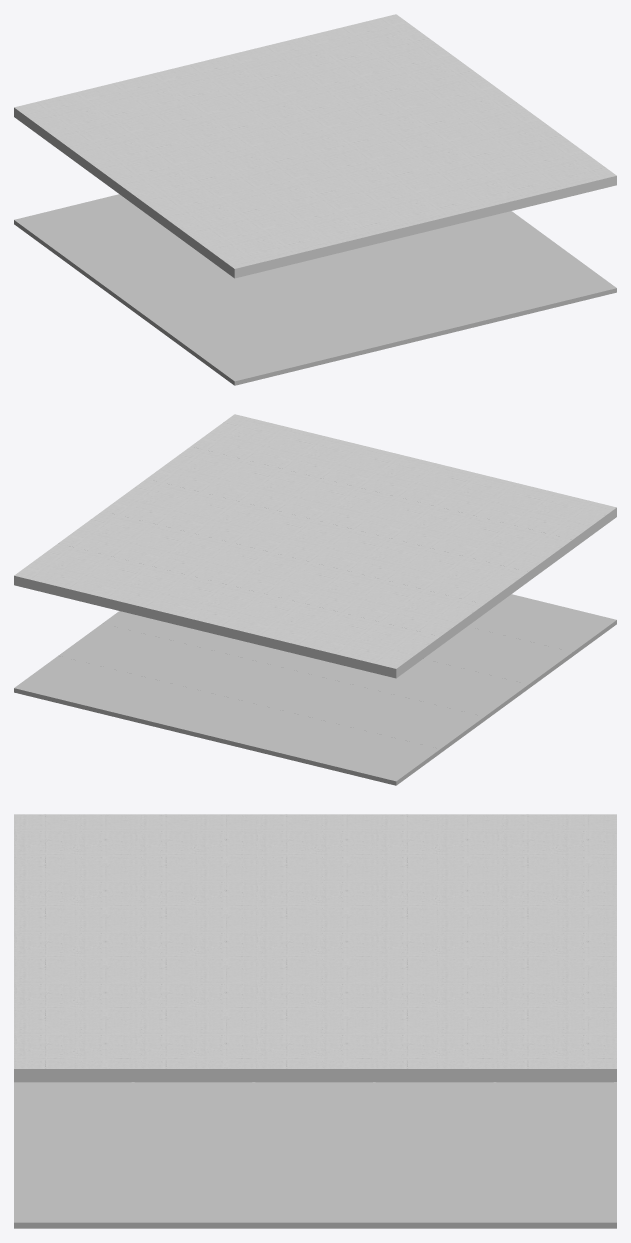
Rendered from WoodNConcreteFloorBlock 1.fbx.
3 views of the same model, one above another, from view 1: azimuth 30°, elevation 25°; view 2: azimuth 150°, elevation 25°; view 3: azimuth 270°, elevation 25° (orthographic). The views are drawn at different scales.
Parts seen in each view (by area): view 1: ceilingConcrete01_020, ceilingConcrete01_021, ceilingConcrete01_024, ceilingConcrete01_022, ceilingConcrete01_023, Floor01_Wood01_020, ceilingConcrete01_010, ceilingConcrete01_015, ceilingConcrete01_005, ceilingConcrete01, Floor01_Wood01_023, Floor01_Wood01_022 (+32 smaller); view 2: ceilingConcrete01, ceilingConcrete01_001, ceilingConcrete01_004, ceilingConcrete01_002, ceilingConcrete01_003, Floor01_Wood01, ceilingConcrete01_015, ceilingConcrete01_010, ceilingConcrete01_005, ceilingConcrete01_020, Floor01_Wood01_003, Floor01_Wood01_001 (+32 smaller); view 3: ceilingConcrete01_009, ceilingConcrete01_019, ceilingConcrete01_004, ceilingConcrete01_014, ceilingConcrete01_024, Floor01_Wood01_009, Floor01_Wood01_019, Floor01_Wood01_004, Floor01_Wood01_014, Floor01_Wood01_024, ceilingConcrete01_005, ceilingConcrete01_006 (+28 smaller).
Boxes of the visible parts, x1,y1,x2,y2 form: ceilingConcrete01_020: (190,218,311,278); ceilingConcrete01_021: (267,199,387,259); ceilingConcrete01_024: (497,143,616,203); ceilingConcrete01_022: (344,180,463,240); ceilingConcrete01_023: (420,162,540,222); Floor01_Wood01_020: (190,330,311,385); ceilingConcrete01_010: (102,153,222,213); ceilingConcrete01_015: (146,185,266,245); ceilingConcrete01_005: (58,121,178,181); ceilingConcrete01: (14,89,133,148); Floor01_Wood01_023: (420,274,540,329); Floor01_Wood01_022: (344,293,463,348); ceilingConcrete01: (319,618,440,678); ceilingConcrete01_001: (243,599,363,659); ceilingConcrete01_004: (14,543,133,603); ceilingConcrete01_002: (167,581,286,640); ceilingConcrete01_003: (90,562,210,622); Floor01_Wood01: (319,730,440,785); ceilingConcrete01_015: (452,521,572,581); ceilingConcrete01_010: (408,553,528,613); ceilingConcrete01_005: (364,585,484,645); ceilingConcrete01_020: (497,489,616,548); Floor01_Wood01_003: (90,674,210,729); Floor01_Wood01_001: (243,712,363,766); ceilingConcrete01_009: (375,1018,496,1082); ceilingConcrete01_019: (134,1018,255,1082); ceilingConcrete01_004: (496,1018,616,1082); ceilingConcrete01_014: (255,1018,375,1082); ceilingConcrete01_024: (14,1018,134,1082); Floor01_Wood01_009: (375,1171,496,1228); Floor01_Wood01_019: (134,1171,255,1228); Floor01_Wood01_004: (496,1171,616,1228); Floor01_Wood01_014: (255,1171,375,1228); Floor01_Wood01_024: (14,1171,134,1228); ceilingConcrete01_005: (375,814,496,865); ceilingConcrete01_006: (375,865,496,916).
Size of the model in its own units: 1148 by 335 by 1148.
